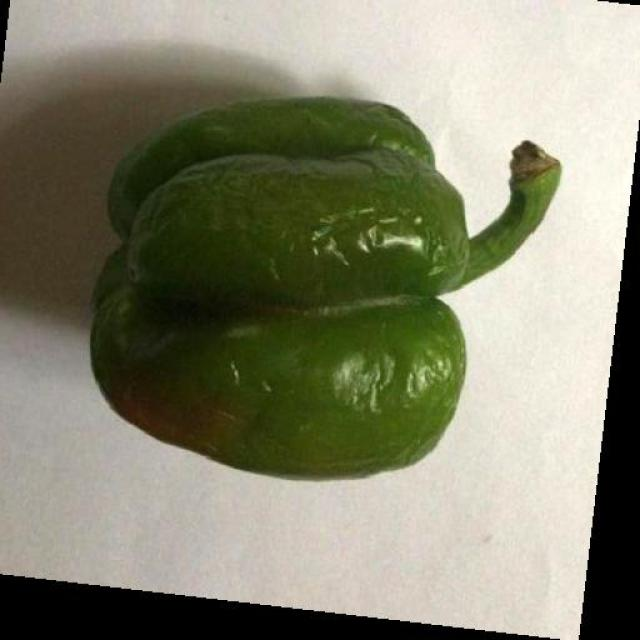Stale_Capsicum: (96, 104, 496, 494)
